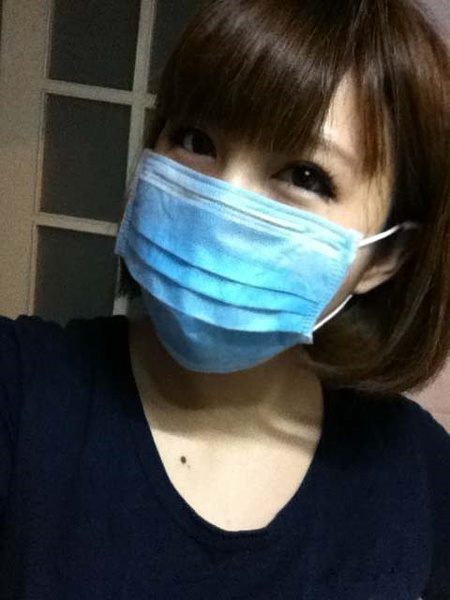face_mask: (118, 78, 361, 374)
